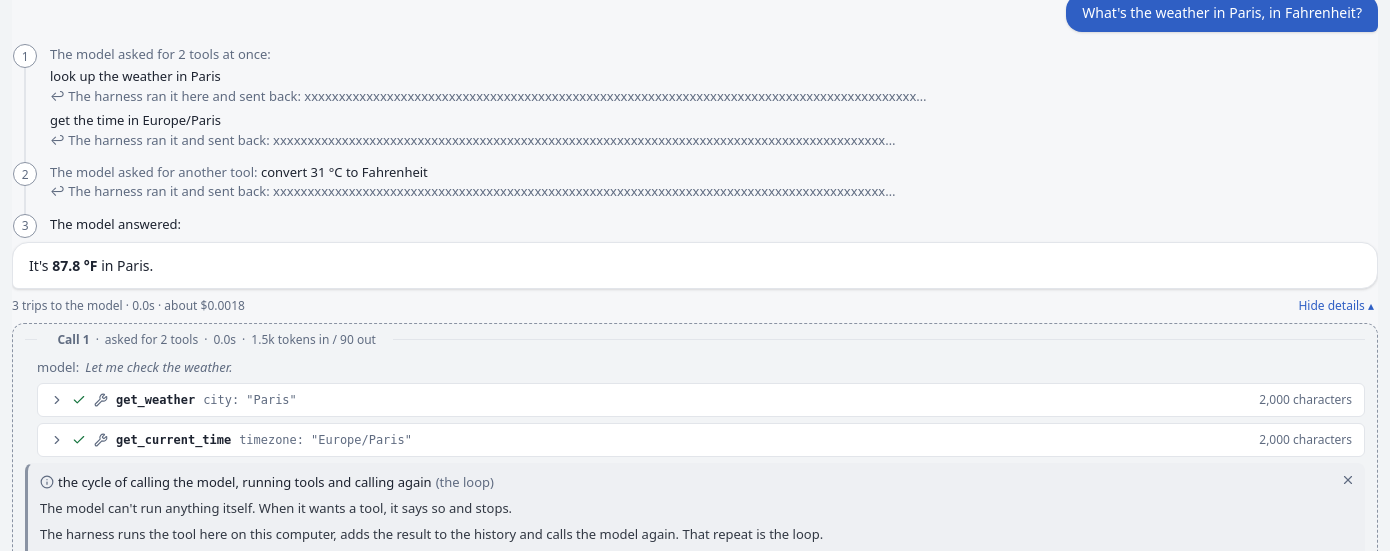
it: rows and cards › a long tool result is shown in part, with a way to see it all
Click the button "get_weather city: \"Paris\" 2,000 characters" at (156, 400), box [38,384,1364,416]
(page scrolled)
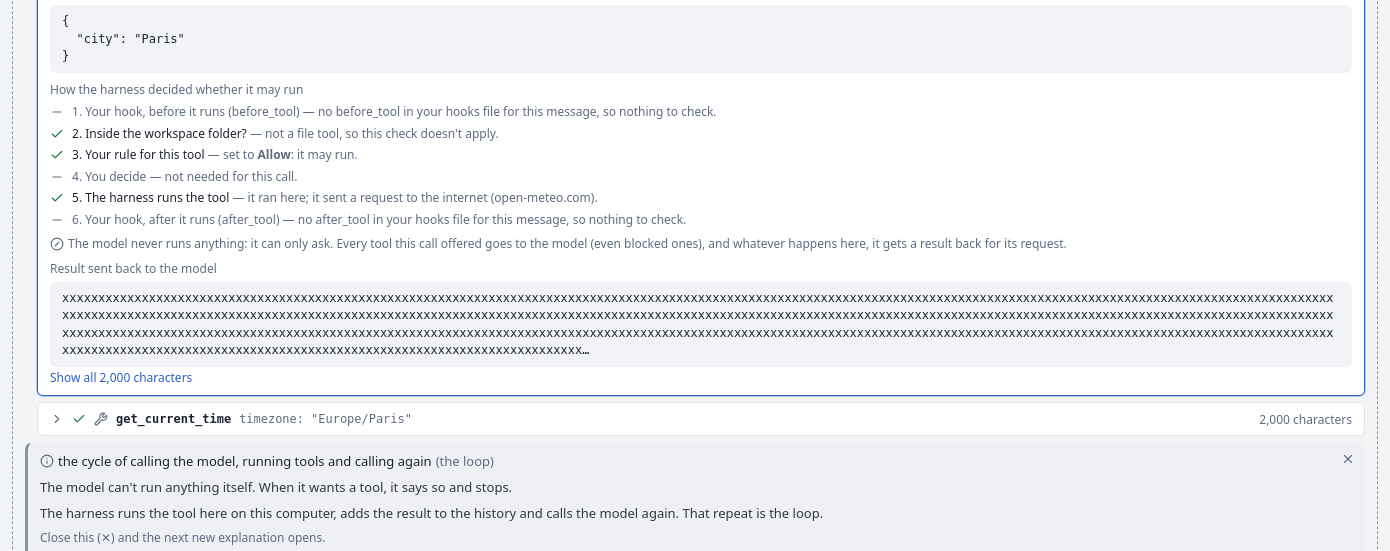
Result: the button "Show all 2,000 characters" is shown at [50,369,192,387]
